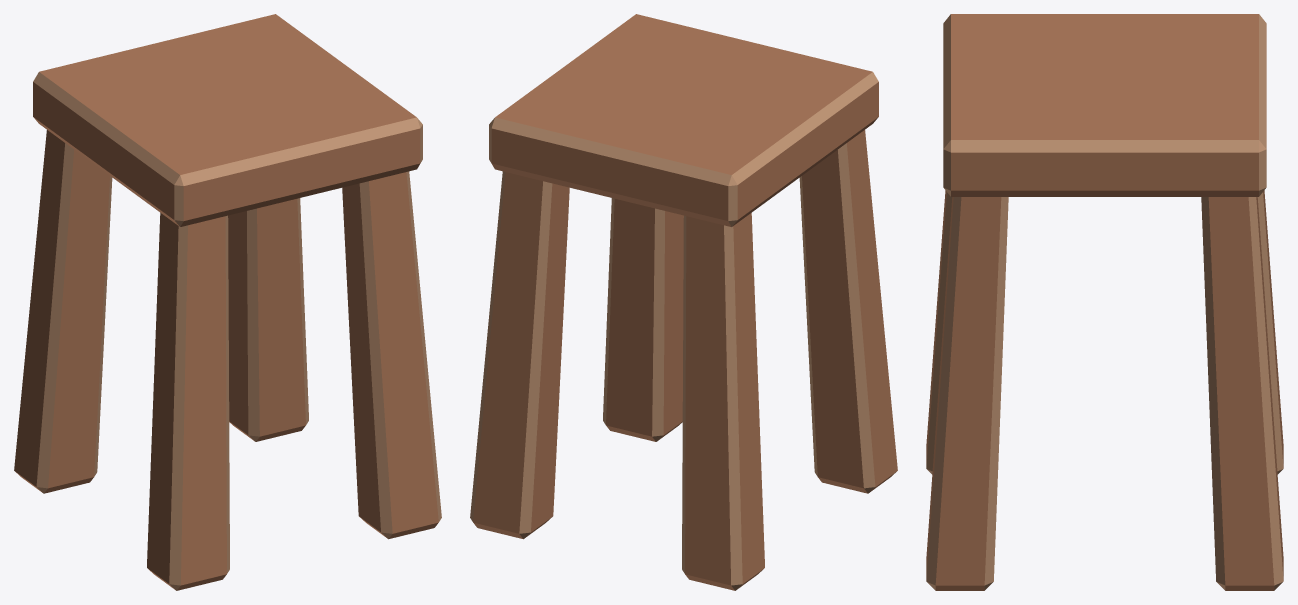
File: ChairCell.fbx
The picture shows the model from 3 angles, left to right: view 1: azimuth 30°, elevation 25°; view 2: azimuth 150°, elevation 25°; view 3: azimuth 270°, elevation 25°; orthographic projection. The views are drawn at different scales.
Parts seen in each view (by area): view 1: ChairCell; view 2: ChairCell; view 3: ChairCell.
Part boxes in pixels (x1,y1,x2,y2): ChairCell: (14,14,441,590); ChairCell: (470,14,897,590); ChairCell: (926,14,1283,590).
Size of the model in its own units: 36.75 by 52.57 by 38.21.
